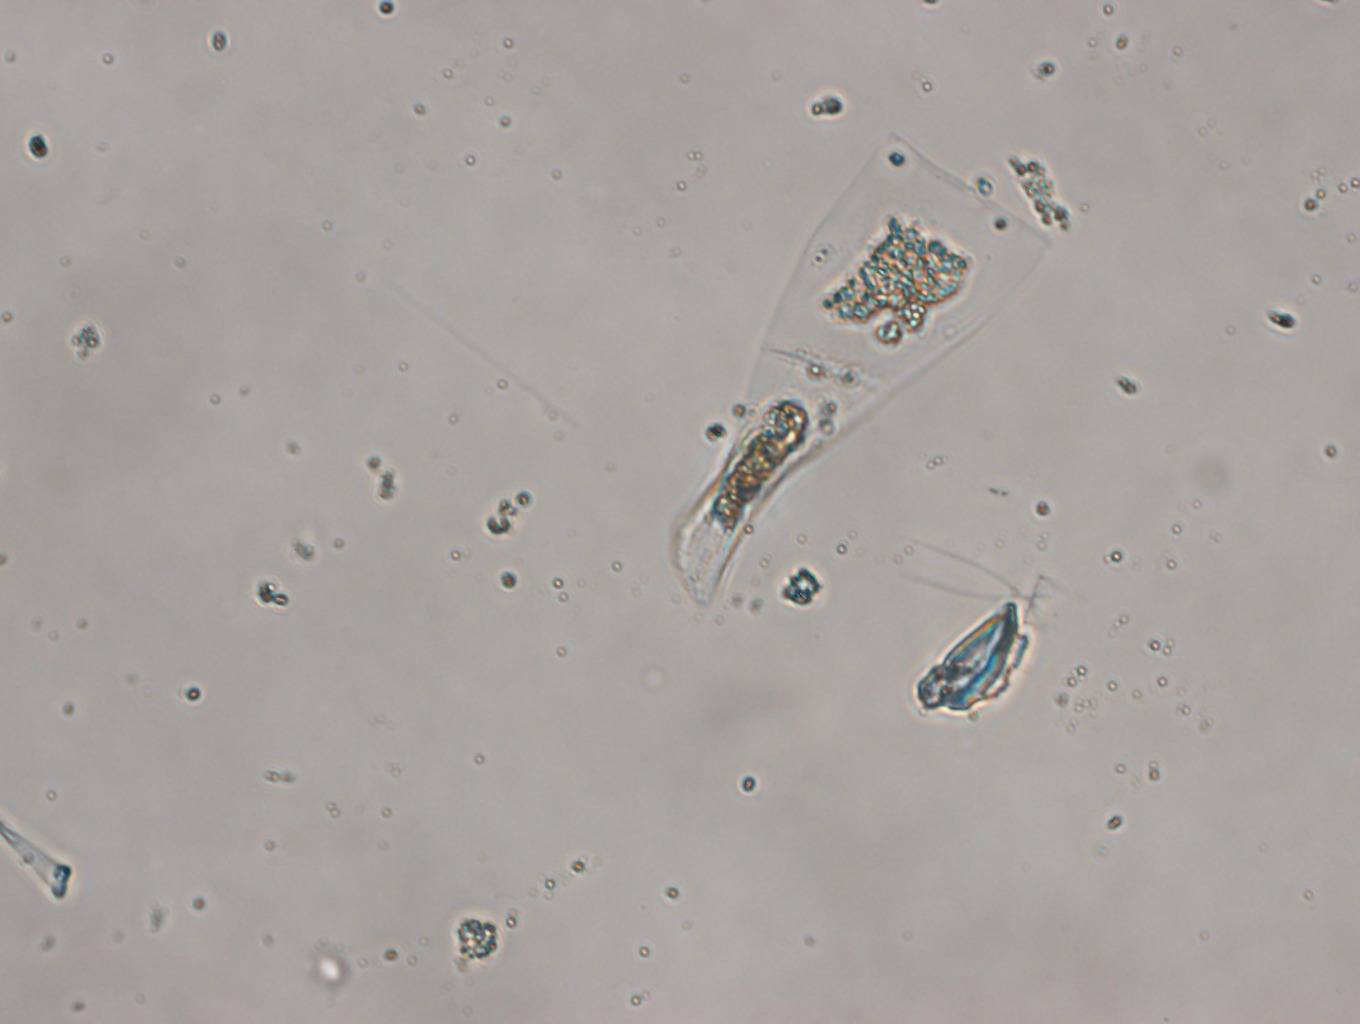helicotheca: (667, 132, 1053, 607)
